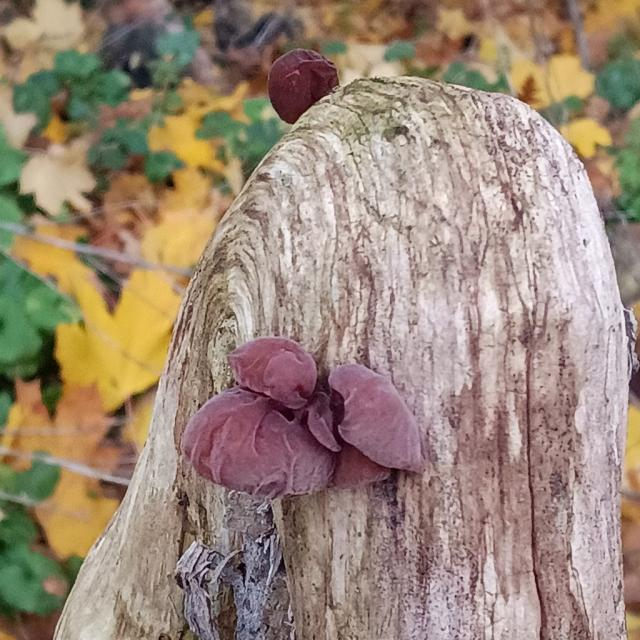Matang: (179, 383, 400, 499), (323, 361, 435, 477), (219, 327, 323, 409), (264, 40, 348, 130)
